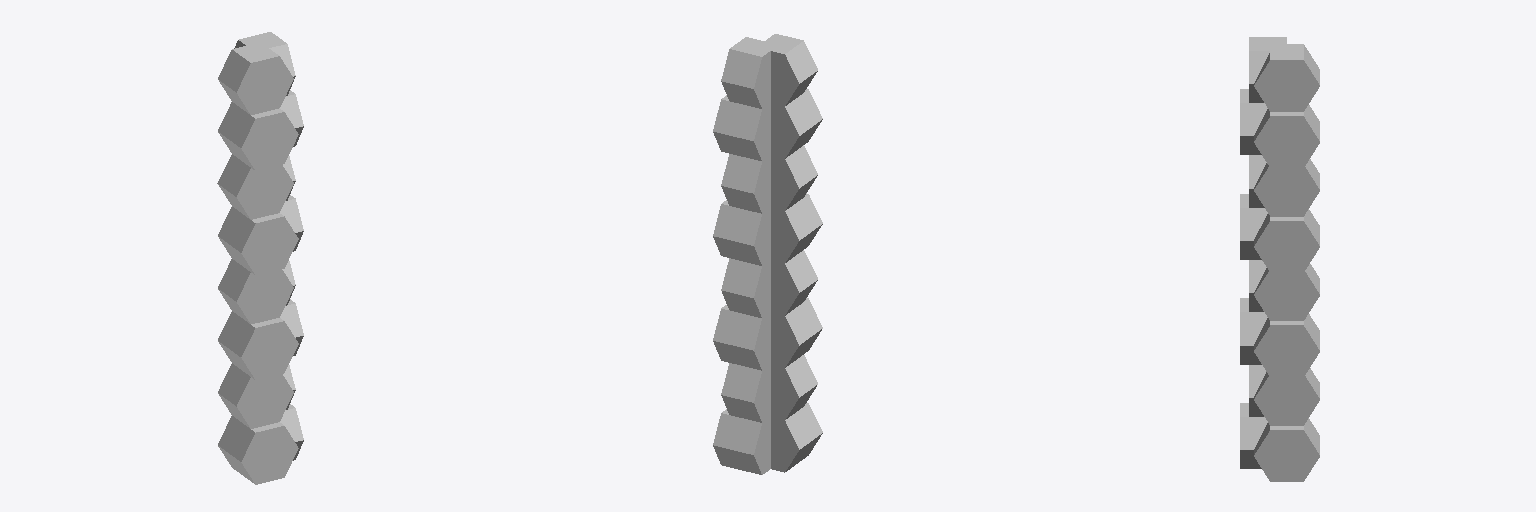
The model's file is cabinCorner.obj.
3 renders of one model, left to right at view 1: azimuth 30°, elevation 25°; view 2: azimuth 150°, elevation 25°; view 3: azimuth 270°, elevation 25°, orthographic.
Parts seen in each view (by area): view 1: cabinCorner; view 2: cabinCorner; view 3: cabinCorner.
Boxes of the visible parts, <box> form: cabinCorner: <box>217,32,303,484</box>; cabinCorner: <box>713,34,822,474</box>; cabinCorner: <box>1240,37,1319,481</box>.
Bounding box in the file's own units: 0.1702 × 0.9727 × 0.1702.